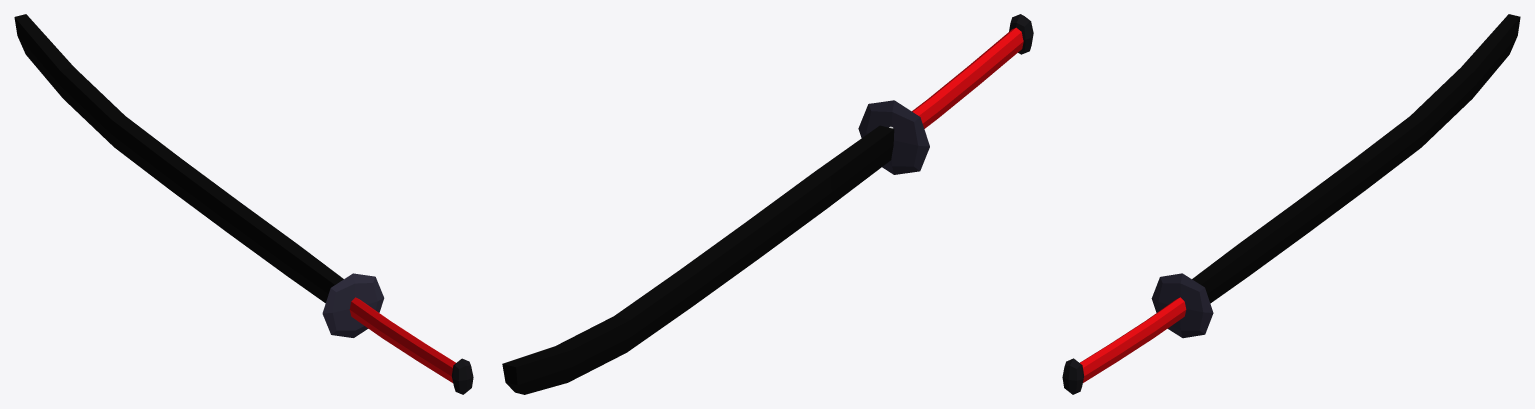
Rendered from StartingKatana.glb.
3 views of the same model, side by side, from view 1: azimuth 30°, elevation 25°; view 2: azimuth 150°, elevation 25°; view 3: azimuth 330°, elevation 25° (orthographic). The views are drawn at different scales.
Parts seen in each view (by area): view 1: Sheathe, StartingKatana; view 2: Sheathe, StartingKatana; view 3: Sheathe, StartingKatana.
Part boxes in pixels (left/top/right/bottom): Sheathe: left=14, top=14, right=343, bottom=302; StartingKatana: left=322, top=273, right=473, bottom=394; Sheathe: left=502, top=125, right=894, bottom=394; StartingKatana: left=858, top=14, right=1033, bottom=174; Sheathe: left=1192, top=14, right=1520, bottom=303; StartingKatana: left=1062, top=273, right=1213, bottom=394.
Bounding box in the file's own units: 0.0745 × 0.0913 × 0.9311.
